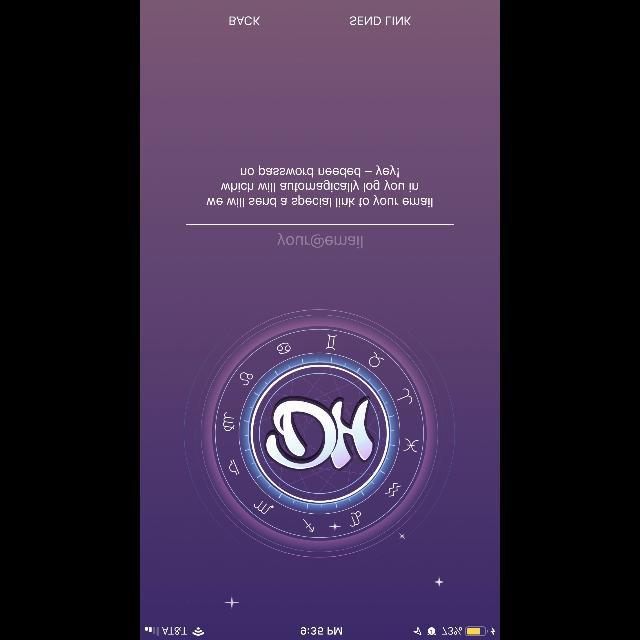image: (182, 296, 456, 570)
input: (186, 224, 454, 248)
text: (207, 165, 433, 208), (278, 234, 362, 248), (350, 16, 410, 26), (230, 16, 260, 26)
uppertaskbar: (140, 626, 500, 640)
